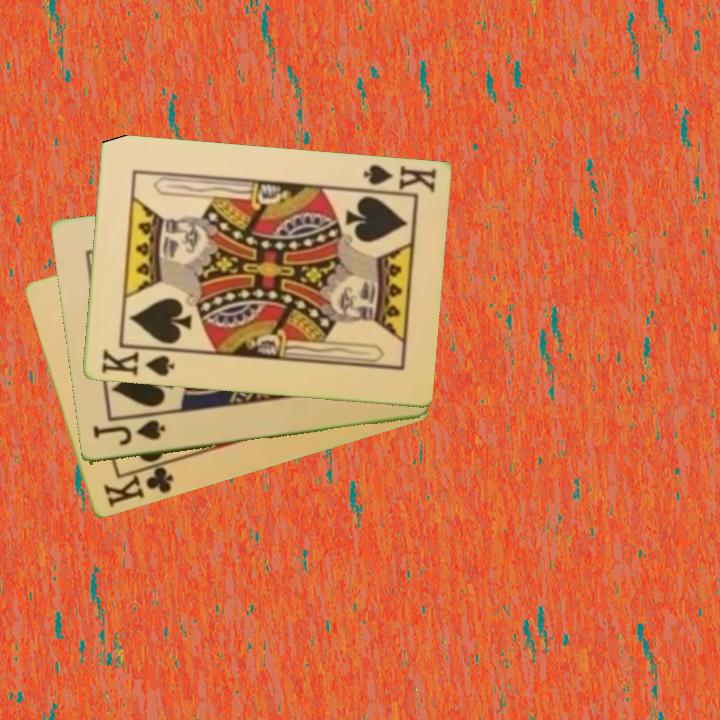Js: (89, 417, 168, 449)
Kc: (99, 458, 176, 511)
Ks: (355, 161, 439, 198), (98, 344, 178, 380)
